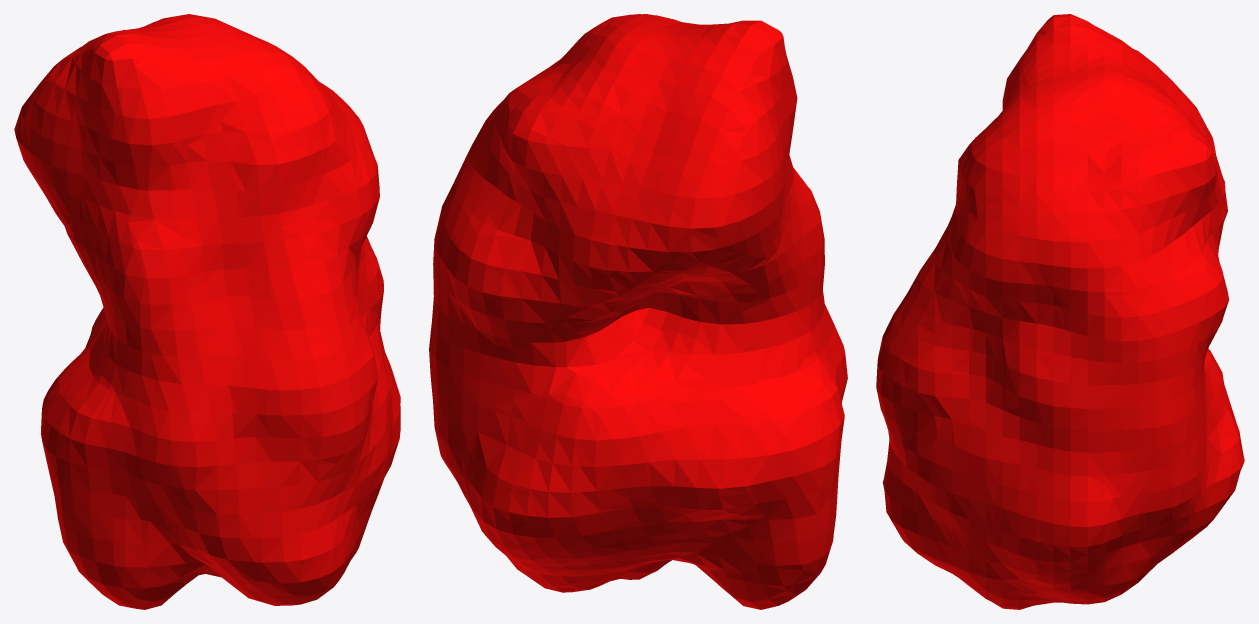
The model's file is yihX_coarse.dae.
3 renders of one model, left to right at view 1: azimuth 30°, elevation 25°; view 2: azimuth 150°, elevation 25°; view 3: azimuth 270°, elevation 25°, orthographic. The views are drawn at different scales.
Visible parts, largest first — view 1: yihX; view 2: yihX; view 3: yihX.
Boxes of the visible parts, bbox=[...] form: yihX: bbox=[14, 14, 400, 609]; yihX: bbox=[429, 14, 847, 609]; yihX: bbox=[876, 14, 1244, 609].
Size of the model in its own units: 38.95 by 60.99 by 38.64.
